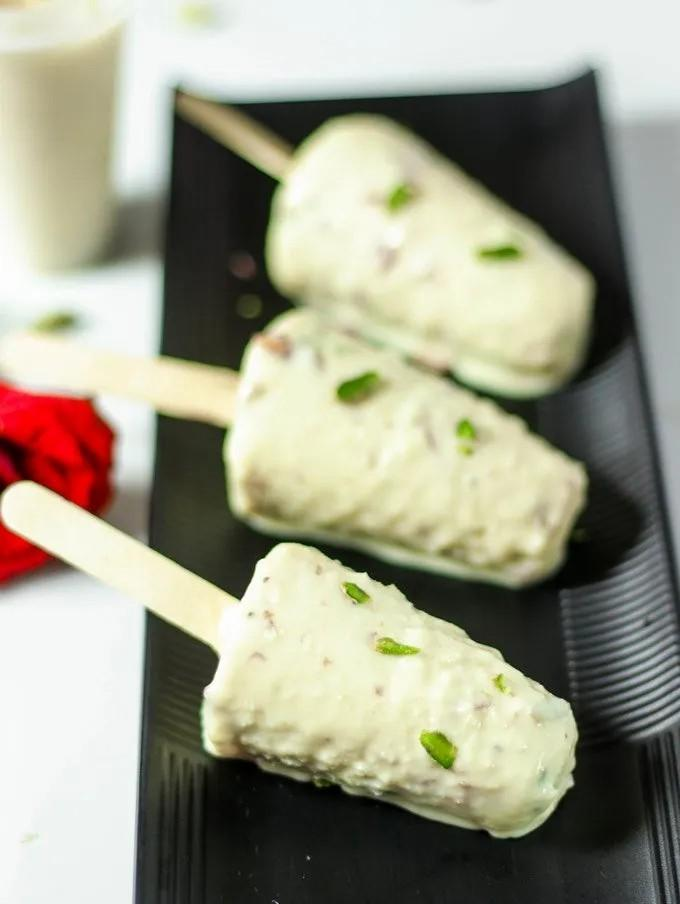Kulfi: (205, 538, 578, 838), (225, 298, 591, 582), (263, 117, 594, 397)
